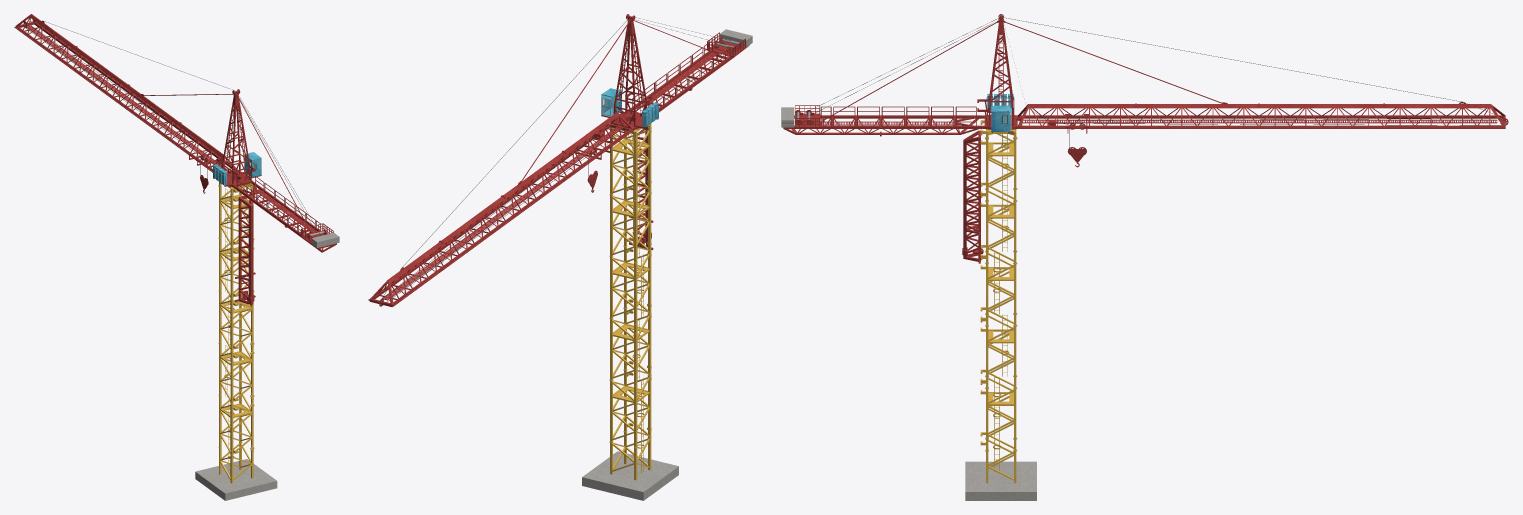
File: tower_crane_kb-573.glb
The picture shows the model from 3 angles, left to right: view 1: azimuth 30°, elevation 25°; view 2: azimuth 150°, elevation 25°; view 3: azimuth 270°, elevation 25°; orthographic projection. The views are drawn at different scales.
Visible parts, largest first — view 1: turnable_part, base, height_setting_mast, tower_2, tower_1, tower_3, tower_5, tower_4; view 2: turnable_part, base, tower_1, tower_3, tower_4, tower_2, tower_5, height_setting_mast; view 3: turnable_part, base, height_setting_mast, tower_5, tower_2, tower_1, tower_3, tower_4.
Part boxes in pixels (box(x1,y1,x2,y2)): turnable_part: box(14, 14, 339, 252); base: box(195, 442, 277, 500); height_setting_mast: box(235, 195, 255, 304); tower_2: box(218, 337, 254, 403); tower_1: box(218, 389, 254, 455); tower_3: box(218, 285, 254, 351); tower_5: box(218, 180, 254, 246); tower_4: box(218, 233, 254, 299); turnable_part: box(368, 14, 752, 306); base: box(582, 431, 678, 500); tower_1: box(609, 369, 651, 447); tower_3: box(609, 245, 651, 323); tower_4: box(609, 184, 651, 262); tower_2: box(609, 307, 651, 385); tower_5: box(609, 121, 651, 200); height_setting_mast: box(629, 126, 653, 249); turnable_part: box(781, 14, 1508, 167); base: box(965, 437, 1036, 500); height_setting_mast: box(962, 130, 983, 263); tower_5: box(980, 120, 1017, 200); tower_2: box(980, 313, 1017, 387); tower_1: box(980, 375, 1017, 450); tower_3: box(980, 250, 1017, 325); tower_4: box(980, 188, 1017, 263).
Bounding box in the file's own units: 6.69 × 48.41 × 67.84.
12 materials, 9 textured.
